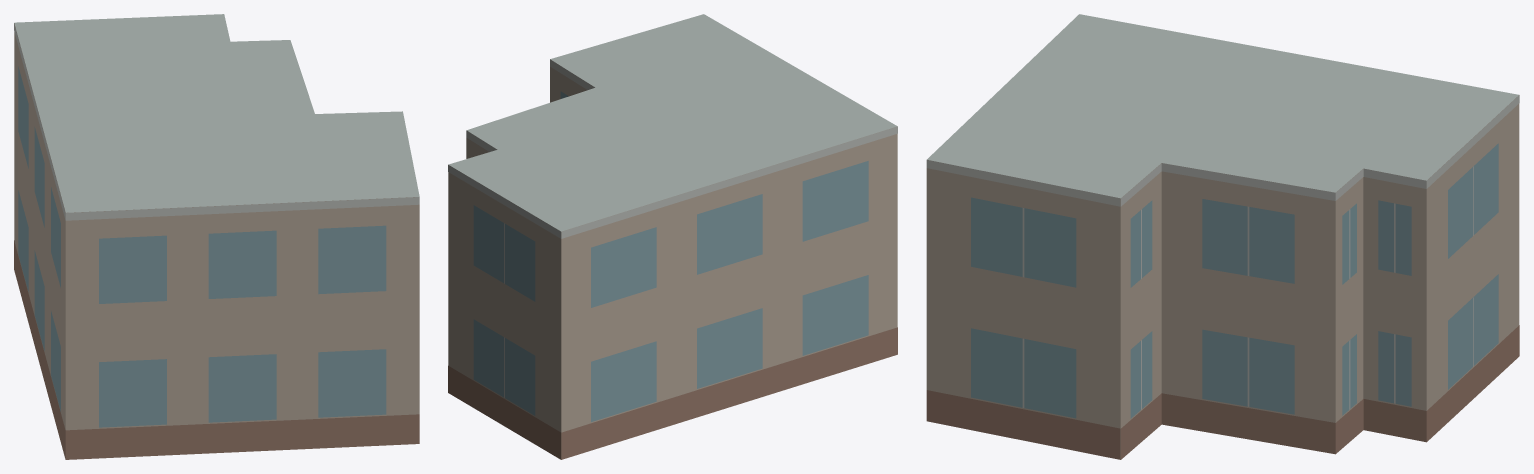
File: survey-upis-32532429.glb
3 renders of one model, left to right at view 1: azimuth 30°, elevation 25°; view 2: azimuth 150°, elevation 25°; view 3: azimuth 270°, elevation 25°, orthographic. The views are drawn at different scales.
Parts seen in each view (by area): view 1: survey-upis-32532429.tmp; view 2: survey-upis-32532429.tmp; view 3: survey-upis-32532429.tmp.
Part boxes in pixels (left/top/right/bottom): survey-upis-32532429.tmp: left=14, top=14, right=419, bottom=459; survey-upis-32532429.tmp: left=448, top=14, right=897, bottom=459; survey-upis-32532429.tmp: left=926, top=14, right=1519, bottom=459.
Size of the model in its own units: 11.5 by 7.6 by 15.62.
